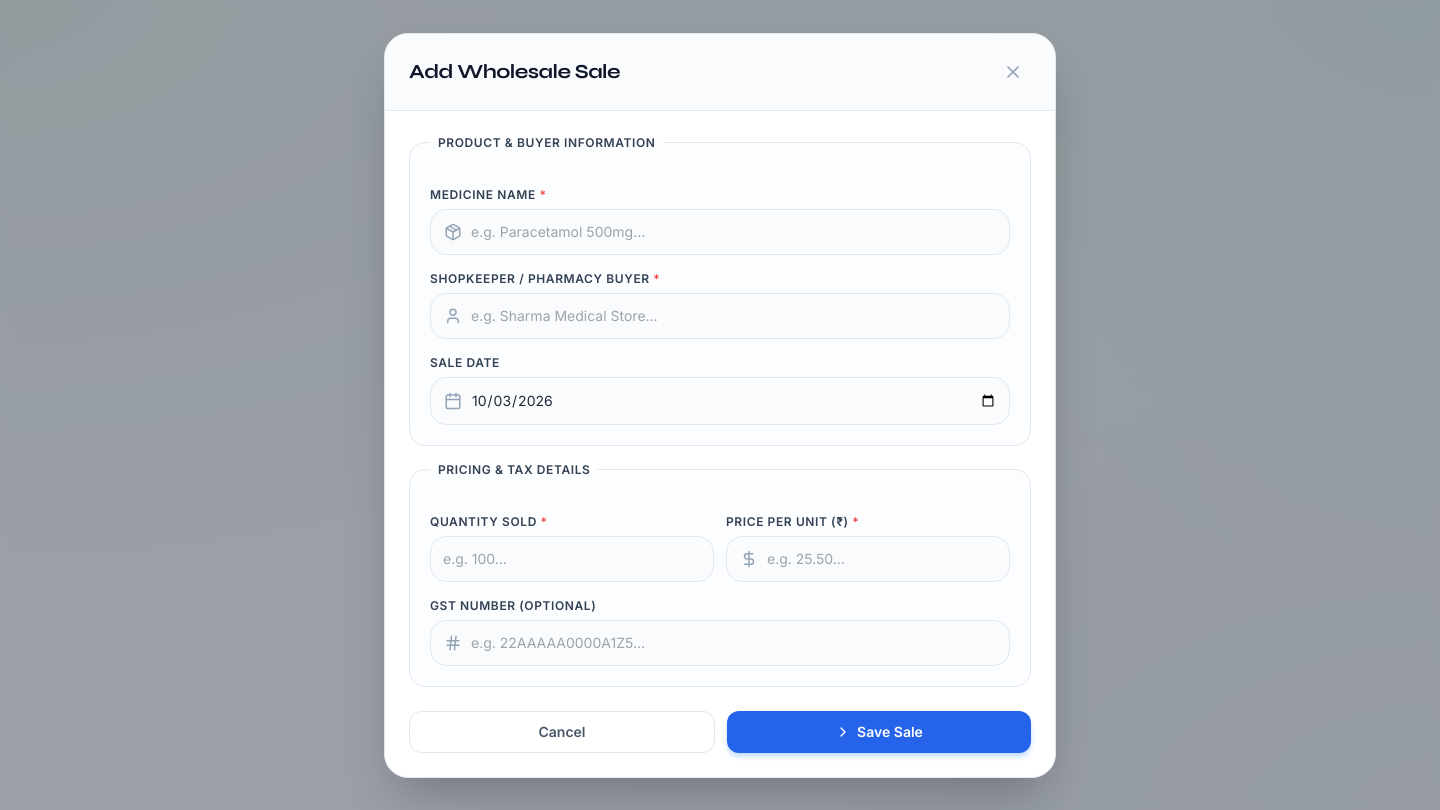
Test: components/suppliers/WholesaleSaleModal.jsx › updates estimated total preview when quantity and price are entered
The width and height of the screenshot is (1440, 810).
Type "20" into the number field labelled "Quantity Sold *". click: (572,558)
box: [430, 536, 714, 582]
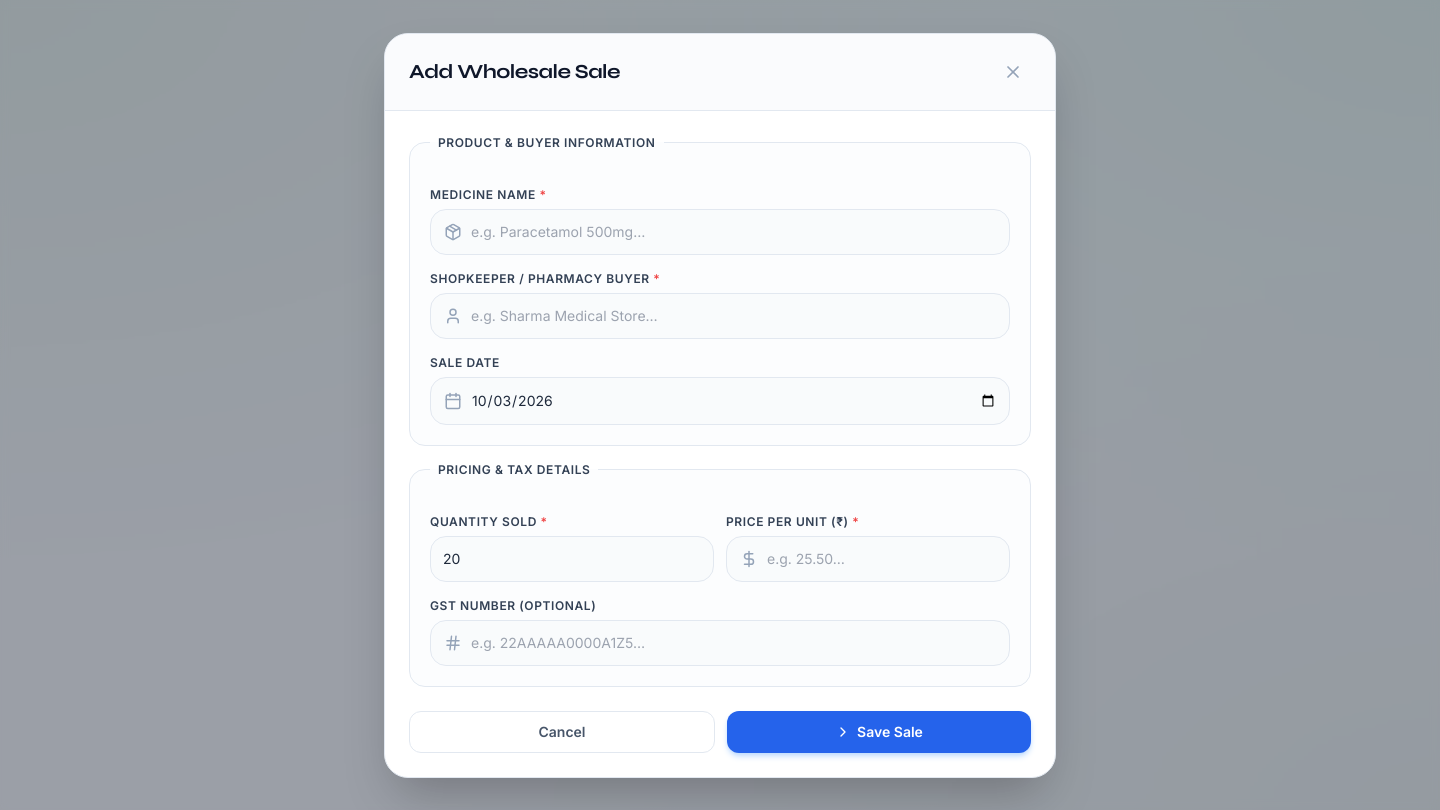
Type "50" into the number field labelled "Price Per Unit (₹) *". click: (868,558)
box: [726, 536, 1010, 582]
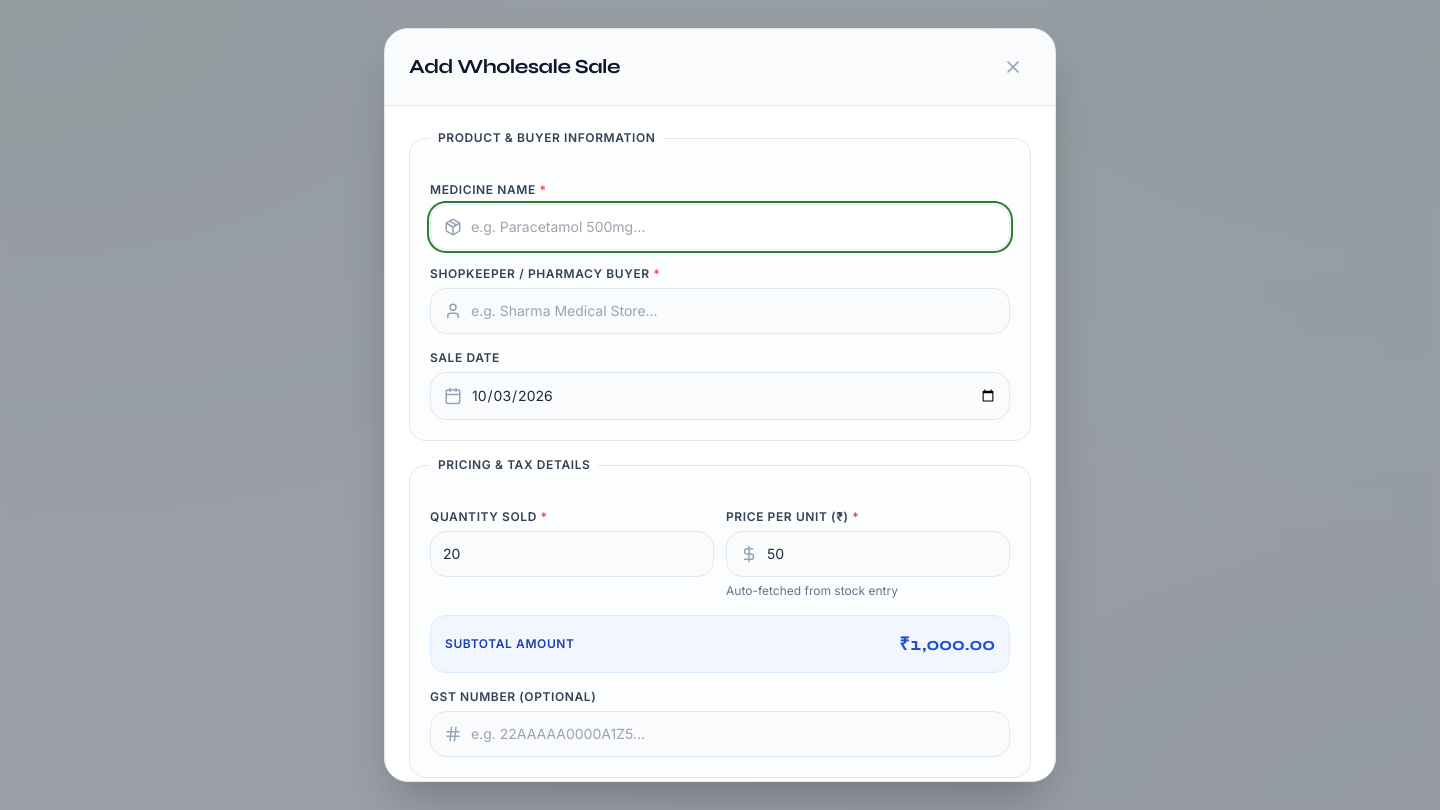
Expected: the text "₹1,000.00" is shown, [899, 630, 995, 658]
